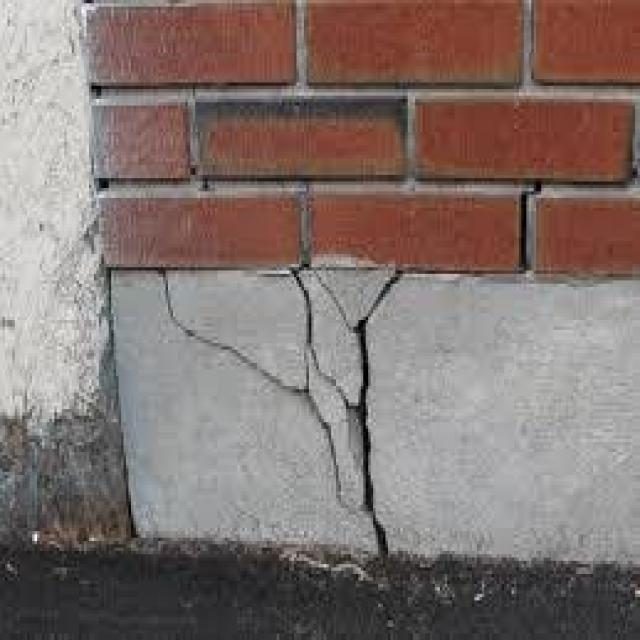Crack: (158, 264, 400, 554)
